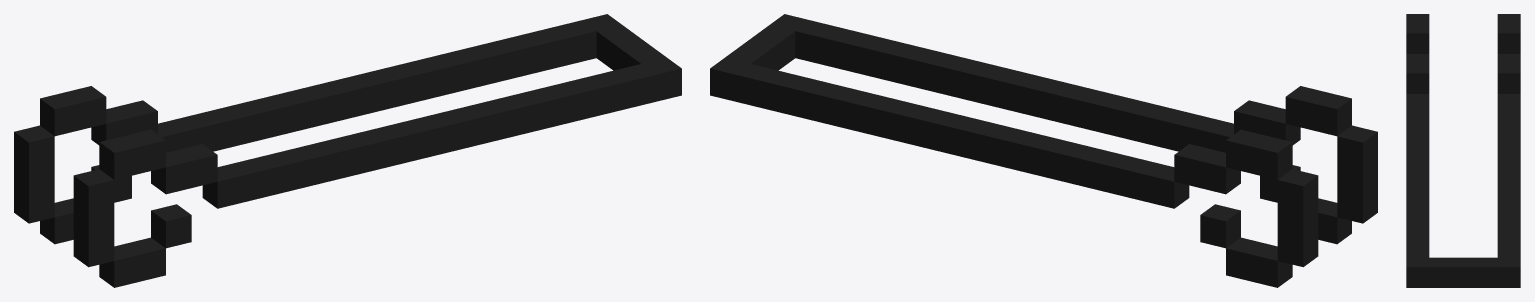
Rendered from BipodArisaka99.fbx.
3 views of the same model, side by side, from view 1: azimuth 30°, elevation 25°; view 2: azimuth 150°, elevation 25°; view 3: azimuth 270°, elevation 25° (orthographic). The views are drawn at different scales.
Parts seen in each view (by area): view 1: BipodArisaka99.001; view 2: BipodArisaka99.001; view 3: BipodArisaka99.001.
Part boxes in pixels (x1=…): BipodArisaka99.001: x1=14, y1=14, x2=681, y2=287; BipodArisaka99.001: x1=710, y1=14, x2=1377, y2=287; BipodArisaka99.001: x1=1406, y1=14, x2=1520, y2=287.
Size of the model in its own units: 2.3 by 0.5 by 0.5.
Materials: 1 (1 with a texture image).
